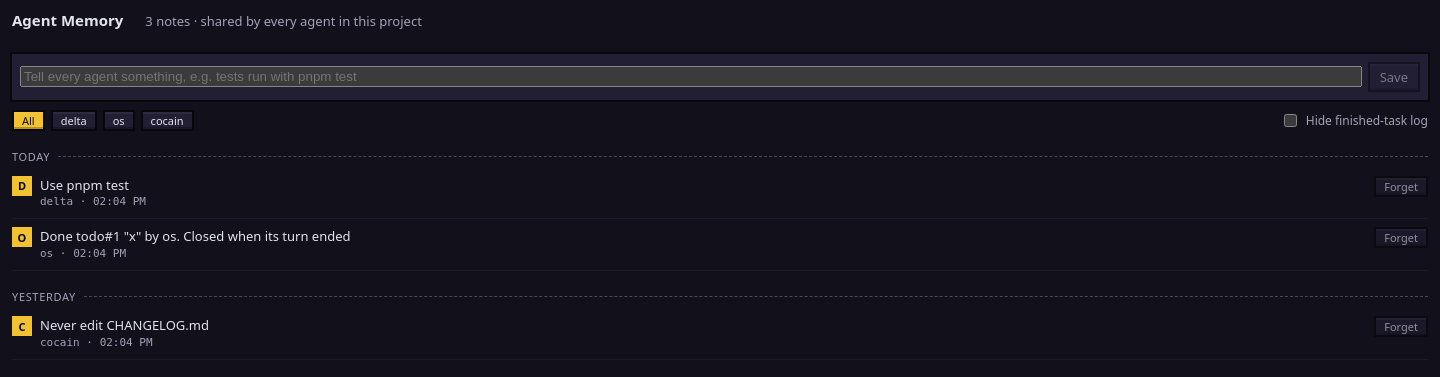
Scenario: the Agent Memory page › filters by who wrote the note
Click the button "cocain". click: x=167, y=120
box: [141,110,194,130]
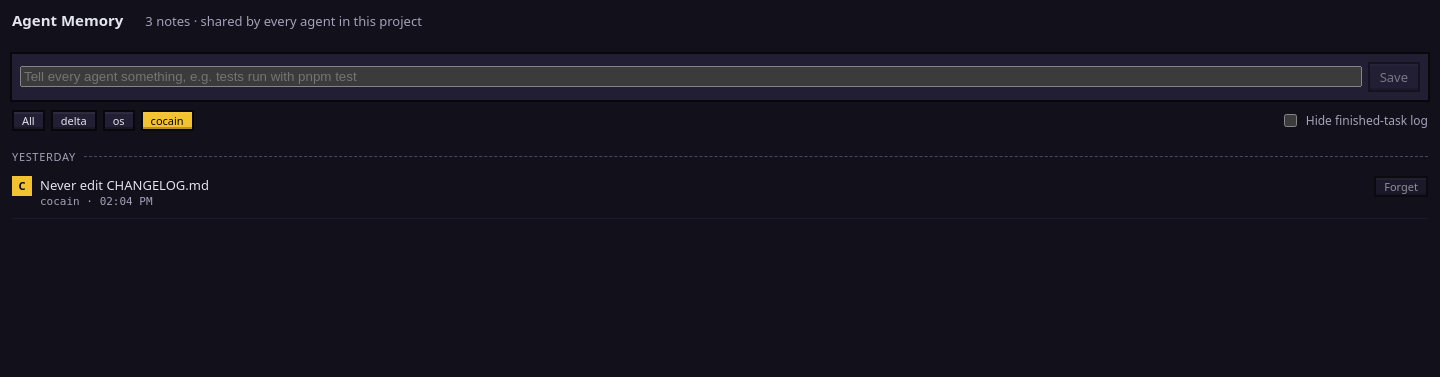
Expected: the text "Never edit CHANGELOG.md" is shown, [40,176,209,194]
Expected: the text "Use pnpm test" is gone
Click the button "All". click: x=28, y=120
box: [12,110,45,130]
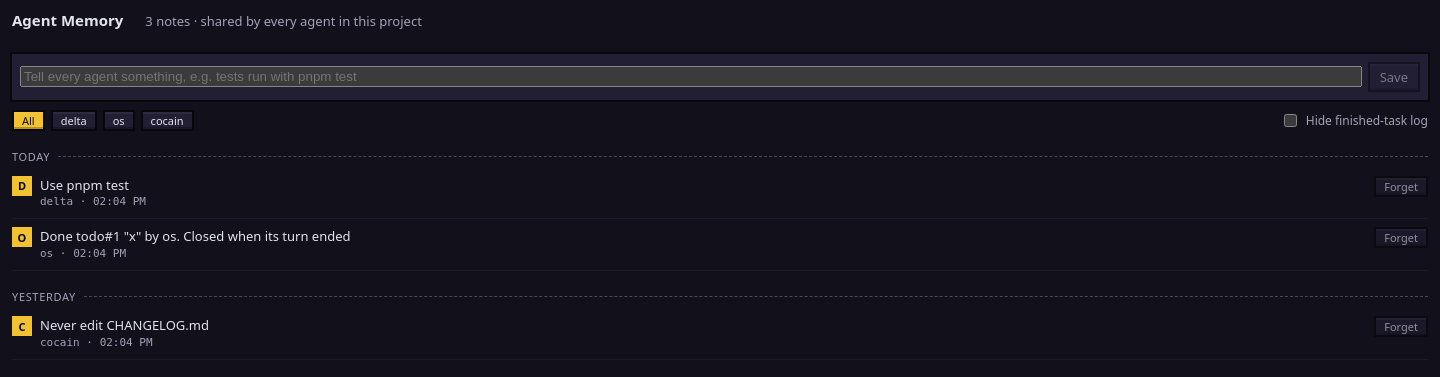
Expected: the text "Use pnpm test" is shown, [40,176,129,194]
